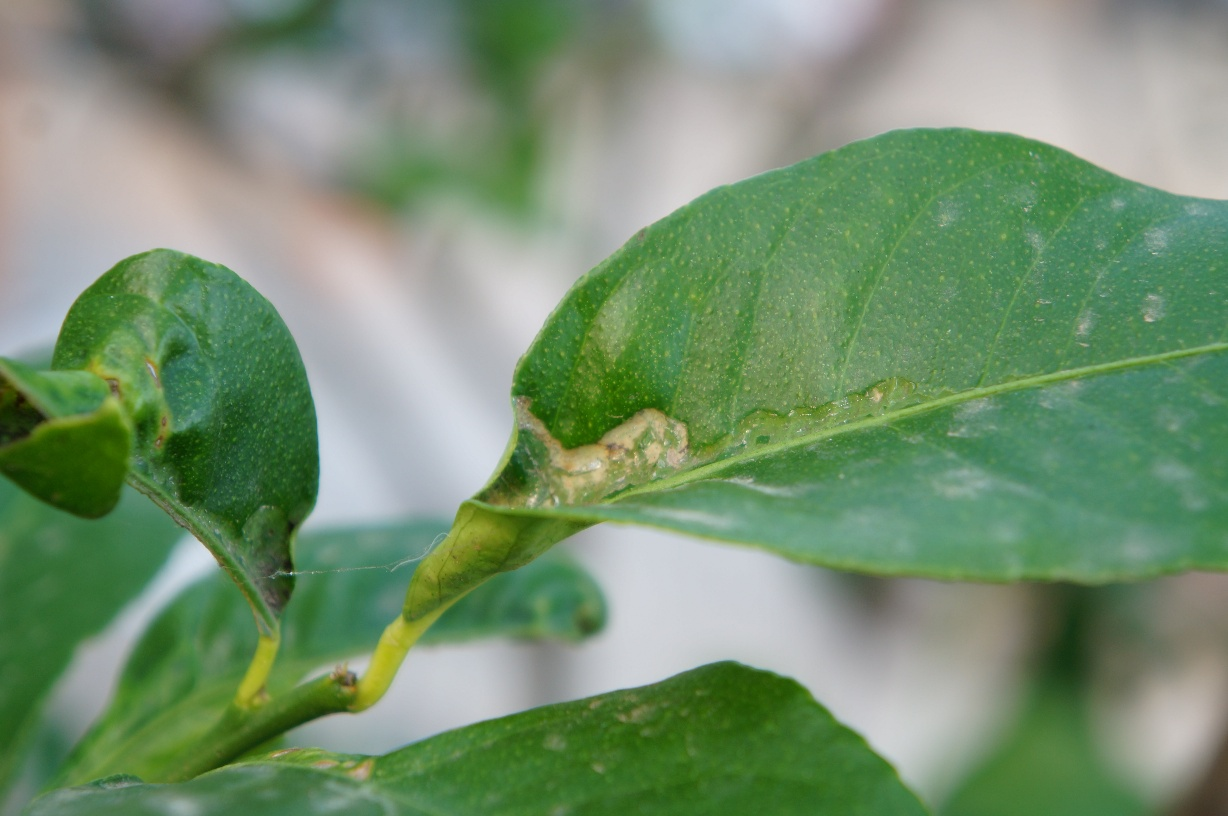damage: (499, 383, 941, 529)
